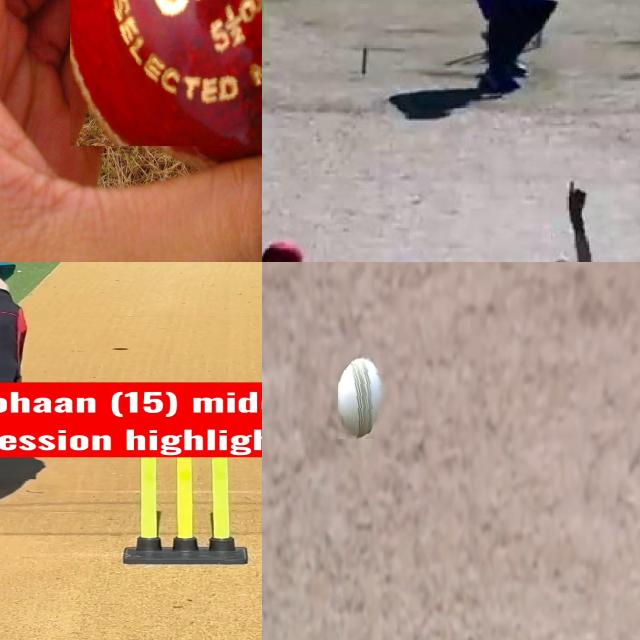Cricket ball: (70, 0, 262, 146), (338, 350, 388, 439), (555, 254, 572, 262)
